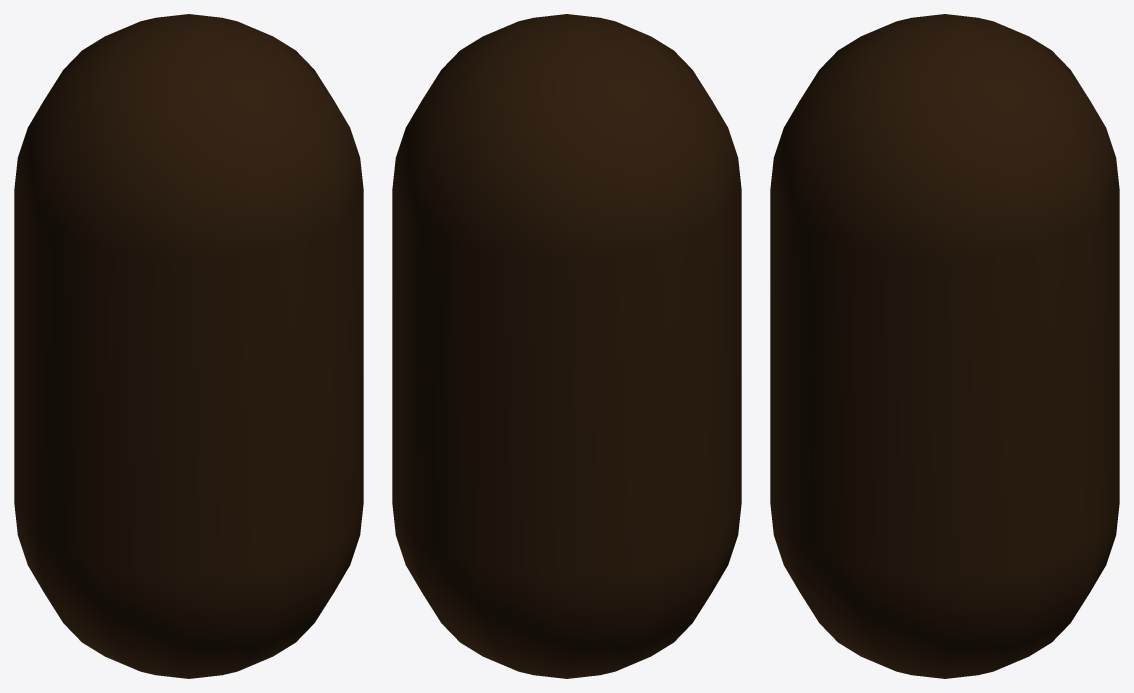
Rendered from p0602-meteotochka-na-myse.glb.
The picture shows the model from 3 angles, left to right: view 1: azimuth 30°, elevation 25°; view 2: azimuth 150°, elevation 25°; view 3: azimuth 270°, elevation 25°; orthographic projection.
Parts seen in each view (by area): view 1: p0602-meteotochka-na-myse; view 2: p0602-meteotochka-na-myse; view 3: p0602-meteotochka-na-myse.
Boxes of the visible parts, <box> form: p0602-meteotochka-na-myse: <box>14,14,363,678</box>; p0602-meteotochka-na-myse: <box>392,14,741,678</box>; p0602-meteotochka-na-myse: <box>770,14,1119,678</box>.
Size of the model in its own units: 2 by 4 by 2.
